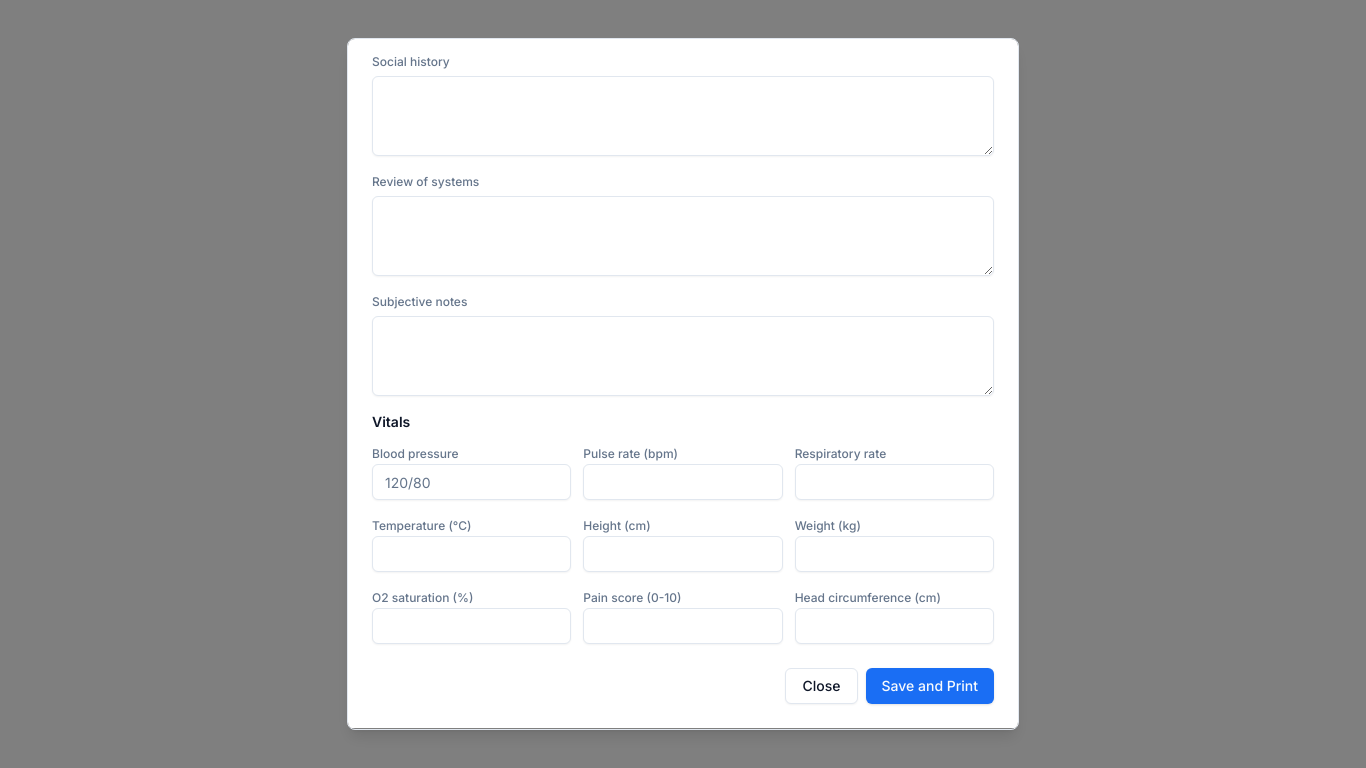
ReceptionVitalsDialog - optional vitals fields › E: rejects save with a clear message when every field is empty
(page scrolled)
Click the button "Save and Print" at (930, 686), box left=866, top=668, right=994, bottom=704
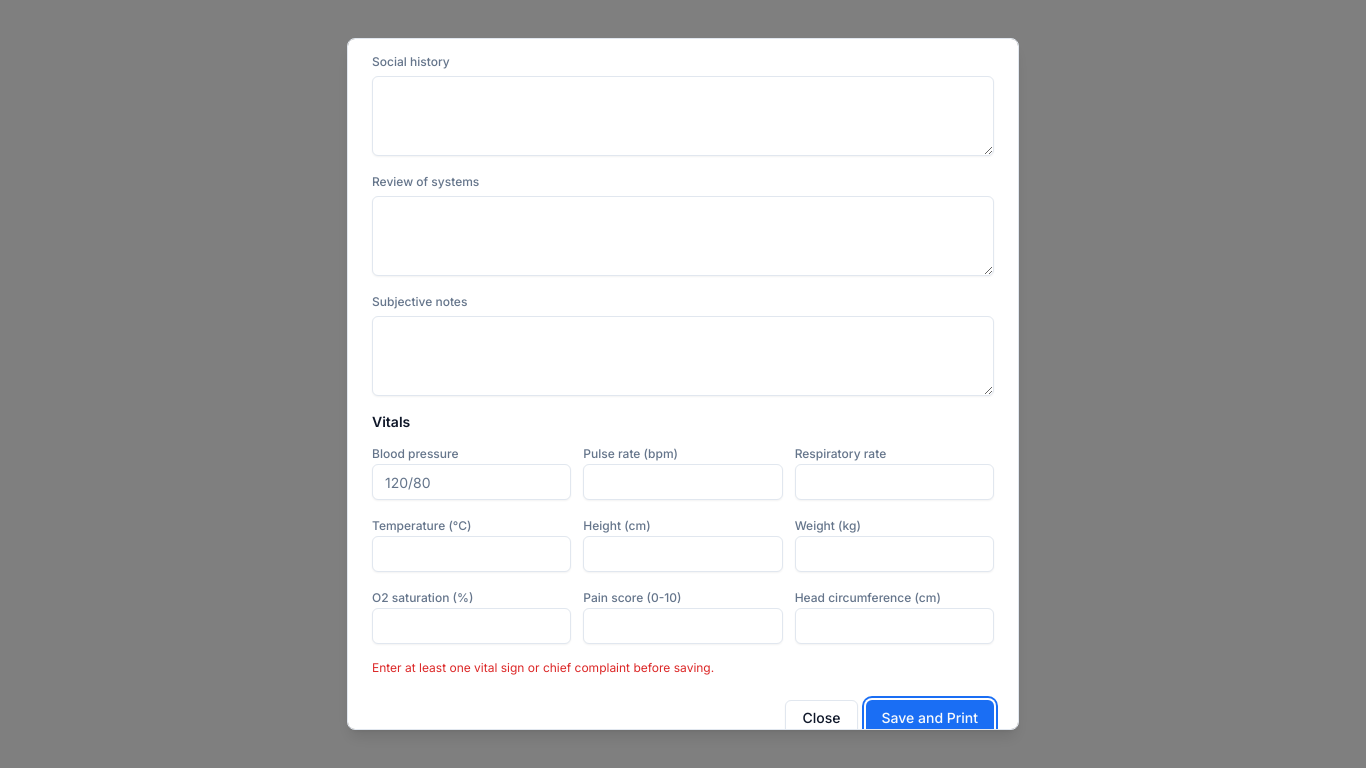
Check: the text "Enter at least one vital sign or chief complaint before saving." is shown, box left=372, top=660, right=714, bottom=675
